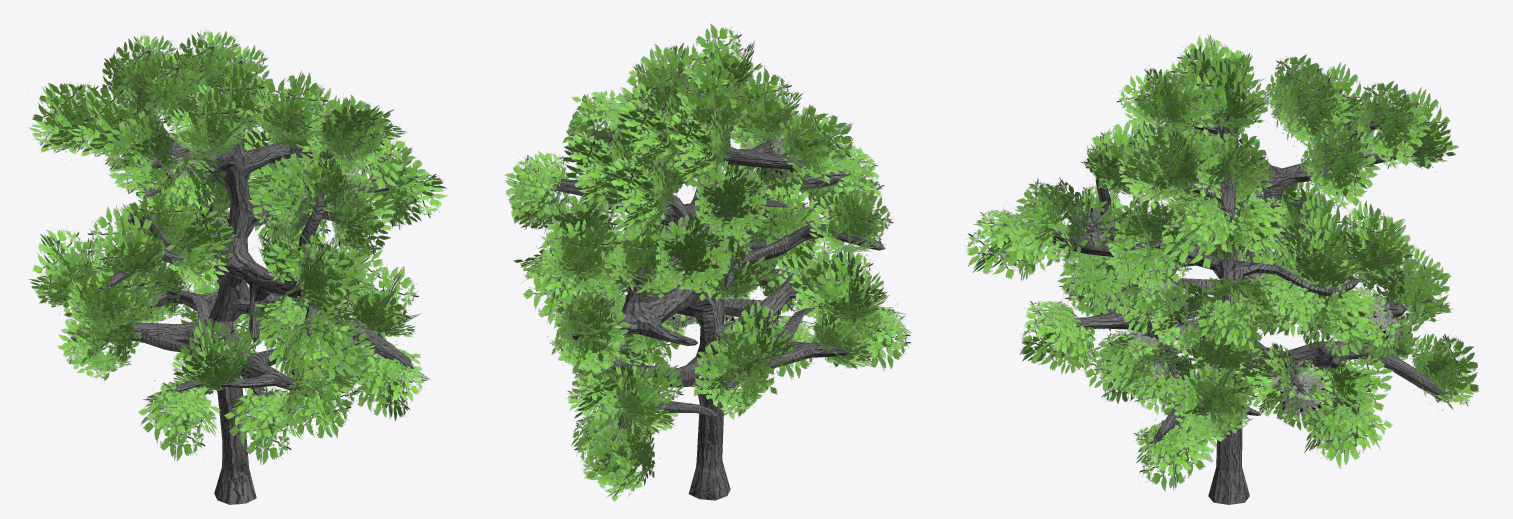
Rendered from elder.glb.
3 renders of one model, left to right at view 1: azimuth 30°, elevation 25°; view 2: azimuth 150°, elevation 25°; view 3: azimuth 270°, elevation 25°, orthographic.
Visible parts, largest first — view 1: Object_6, Object_4, Object_9; view 2: Object_6, Object_4, Object_9; view 3: Object_6, Object_4, Object_9.
Boxes of the visible parts, x1,y1,x2,y2 form: Object_6: (27,28,447,465); Object_4: (70,87,413,504); Object_9: (160,150,351,374); Object_6: (504,24,911,501); Object_4: (551,105,885,500); Object_9: (569,129,795,372); Object_6: (964,34,1478,490); Object_4: (1004,107,1448,504); Object_9: (1071,117,1401,417).
Bounding box in the file's own units: 5.65 × 6.02 × 6.63.
Materials: 3 (3 with a texture image).
